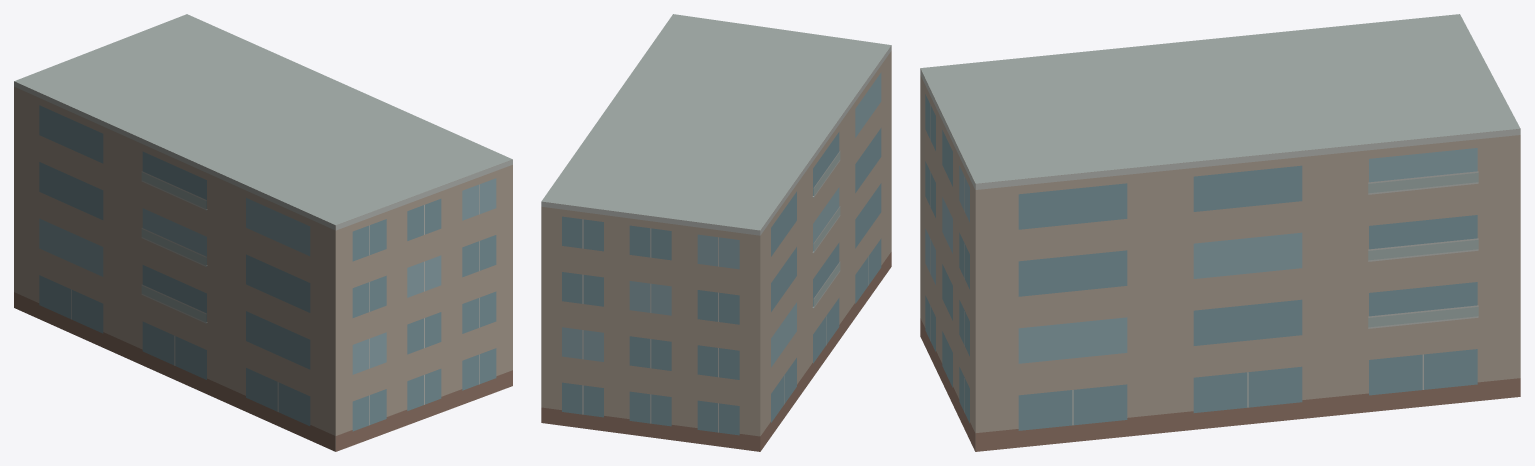
Rendered from survey-upis-32777001.glb.
3 renders of one model, left to right at view 1: azimuth 30°, elevation 25°; view 2: azimuth 150°, elevation 25°; view 3: azimuth 270°, elevation 25°, orthographic. The views are drawn at different scales.
Parts seen in each view (by area): view 1: survey-upis-32777001.tmp; view 2: survey-upis-32777001.tmp; view 3: survey-upis-32777001.tmp.
Boxes of the visible parts, x1,y1,x2,y2 form: survey-upis-32777001.tmp: (14, 14, 512, 451); survey-upis-32777001.tmp: (541, 14, 891, 451); survey-upis-32777001.tmp: (920, 14, 1520, 451).
Bounding box in the file's own units: 14.13 × 10.4 × 21.11.
